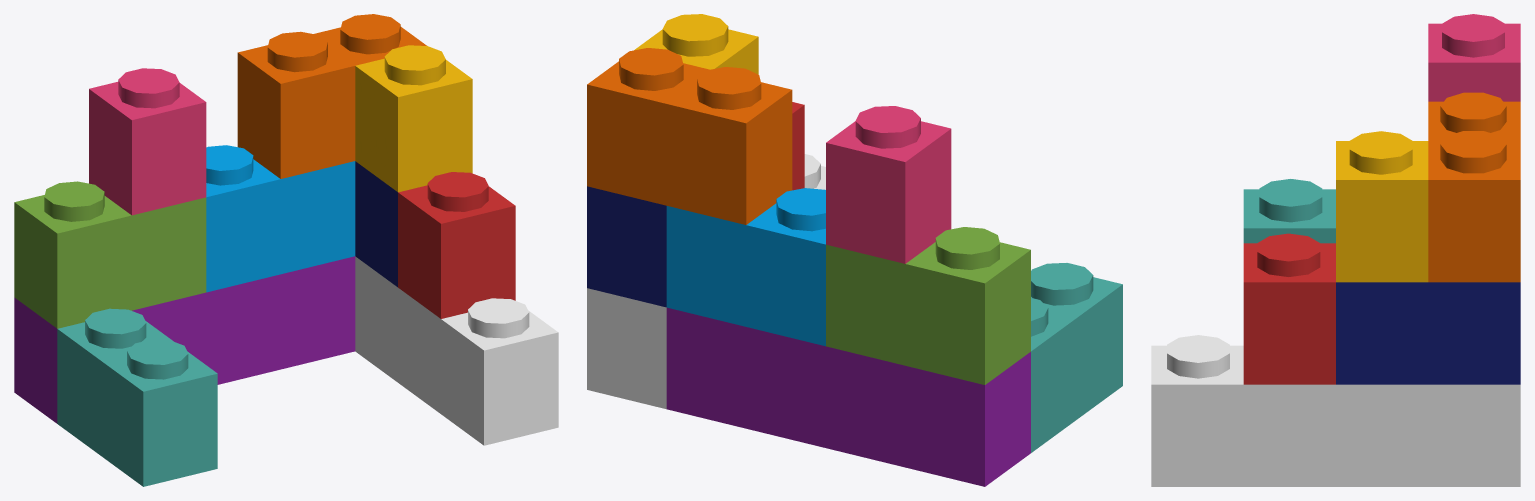
Rendered from Block02.FBX.
The picture shows the model from 3 angles, left to right: view 1: azimuth 30°, elevation 25°; view 2: azimuth 150°, elevation 25°; view 3: azimuth 270°, elevation 25°; orthographic projection. The views are drawn at different scales.
Parts seen in each view (by area): view 1: Block02; view 2: Block02; view 3: Block02.
Part boxes in pixels (x1,y1,x2,y2): Block02: [14, 14, 558, 486]; Block02: [587, 14, 1122, 486]; Block02: [1151, 14, 1520, 486].
Bounding box in the file's own units: 225 × 173 × 180.
